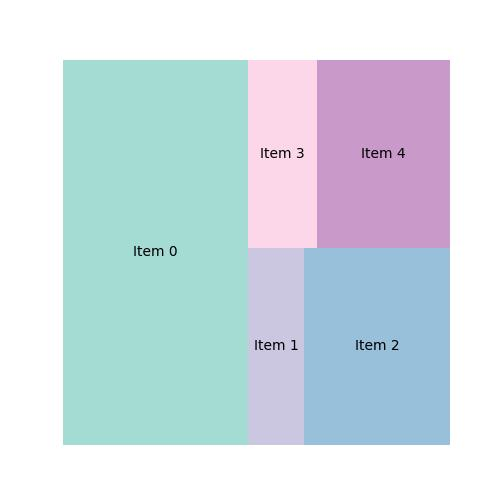rectangle: (62, 59, 248, 444), (304, 248, 451, 445), (318, 59, 449, 249), (247, 59, 319, 249), (247, 246, 304, 444)
